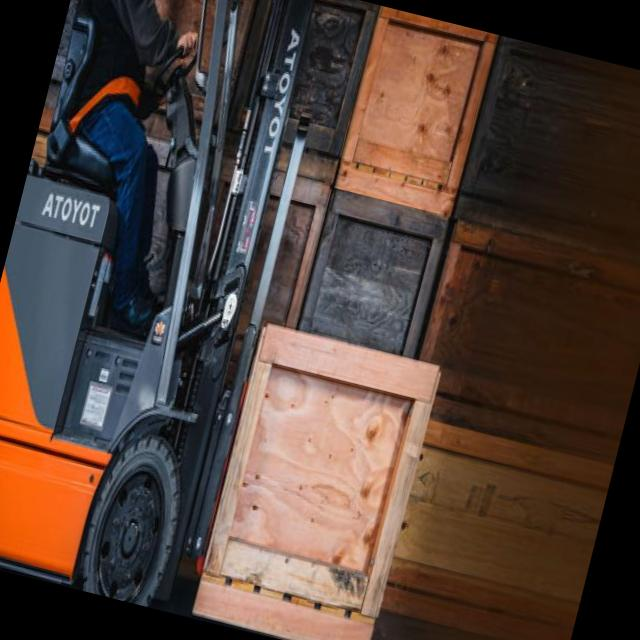driver: (19, 0, 246, 297)
forklift: (0, 0, 345, 617)
